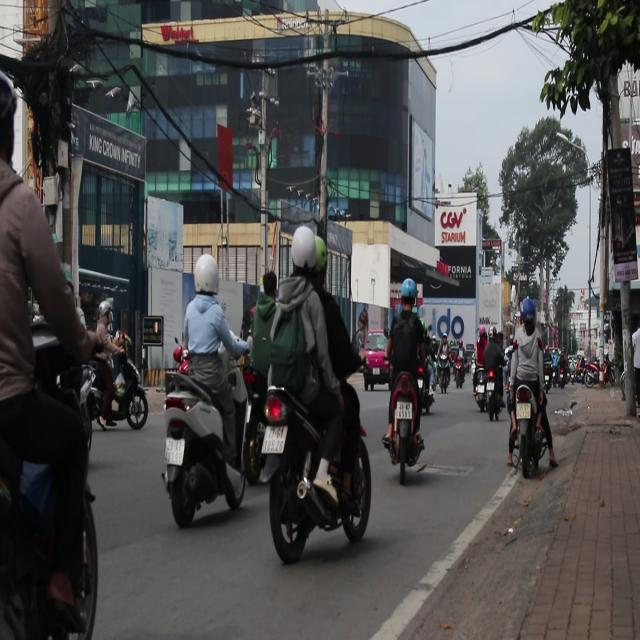motorbike: (260, 385, 372, 560), (161, 357, 250, 528), (91, 342, 151, 430), (506, 377, 558, 476), (386, 374, 420, 478), (486, 368, 500, 427), (474, 363, 486, 416), (455, 358, 465, 394), (441, 354, 448, 394)
truck: (359, 332, 392, 392)
